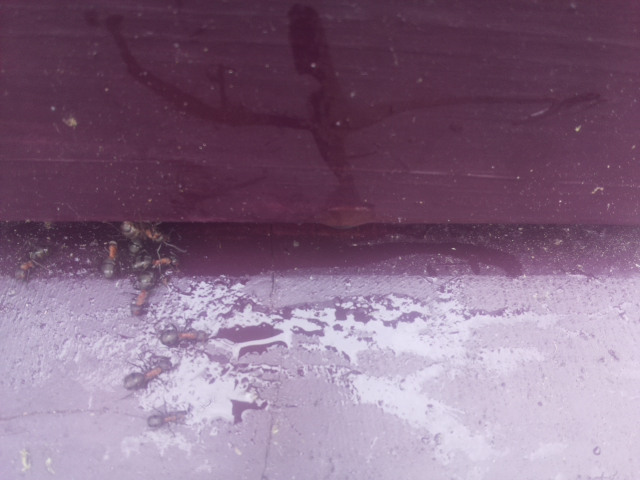ant: (113, 357, 177, 394), (125, 267, 158, 319), (151, 324, 214, 351), (10, 243, 53, 282), (137, 403, 197, 430), (96, 242, 125, 277), (130, 254, 181, 271)
